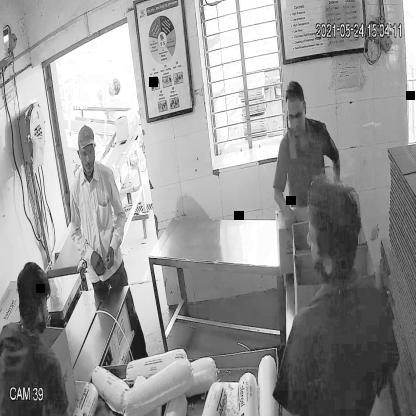goggles: (286, 104, 308, 127)
no_goggles: (76, 144, 98, 162)
